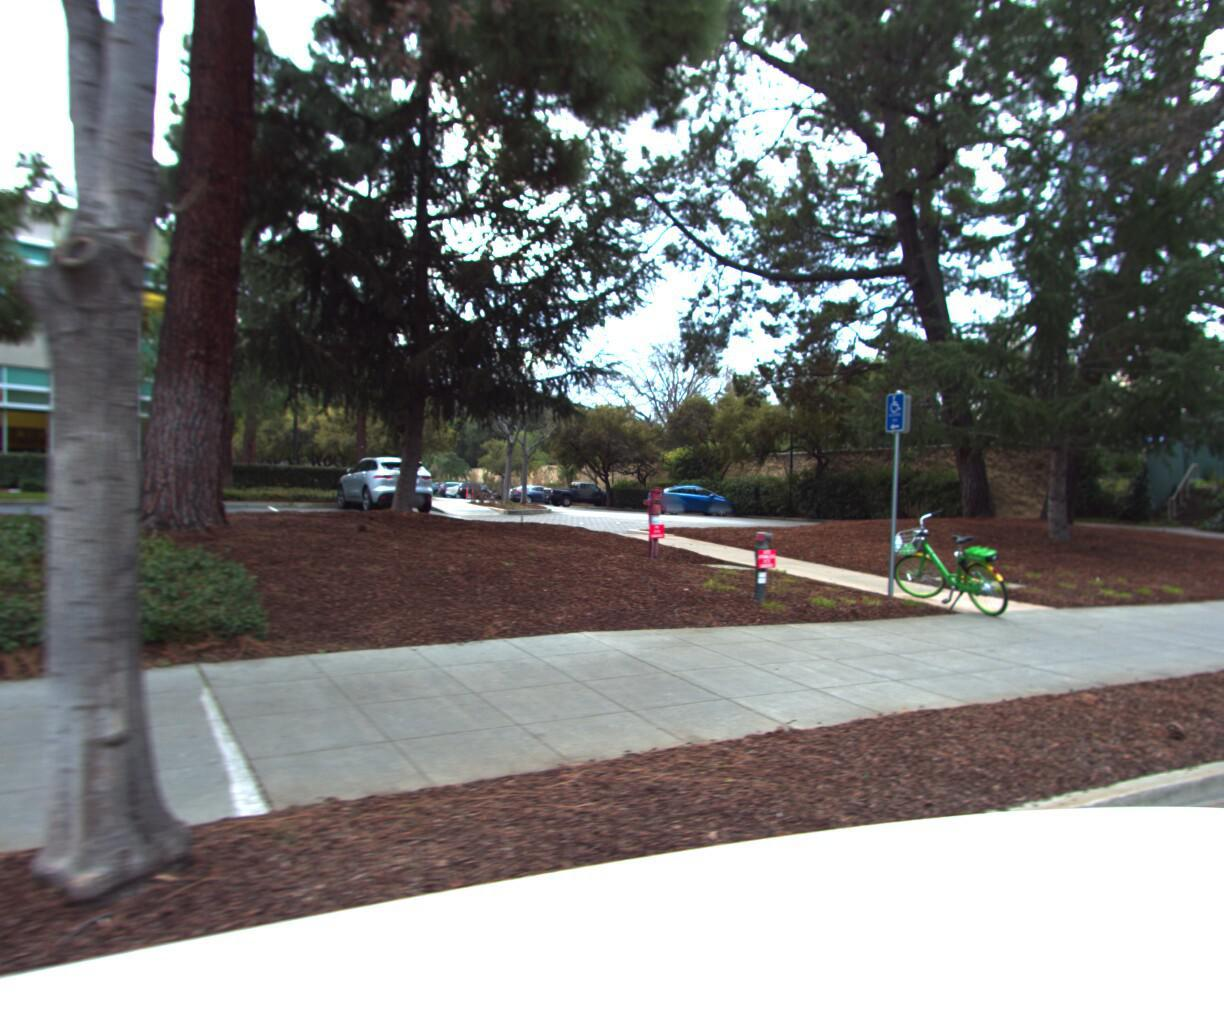bicycle: (869, 505, 1034, 623)
